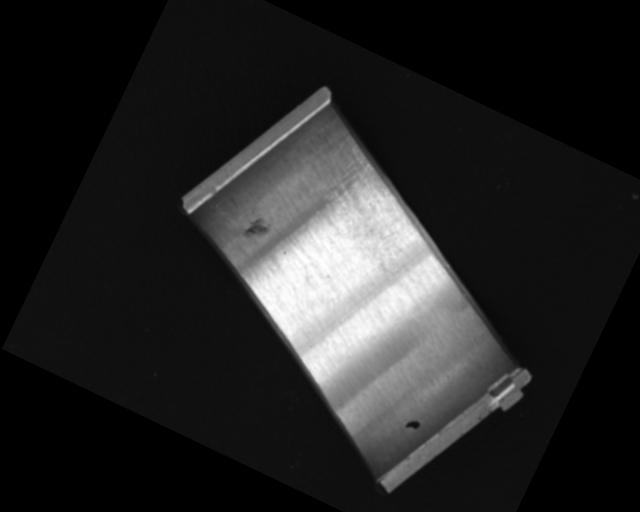blot: (403, 416, 422, 434)
bruise: (242, 212, 274, 243)
scratch: (302, 132, 434, 260)
